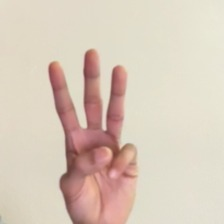W: (32, 43, 157, 224)
